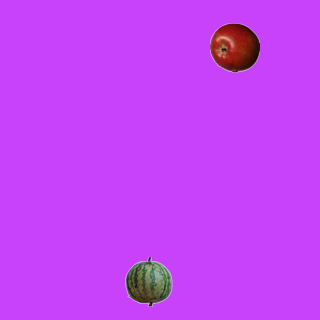Apple Braeburn: (209, 22, 259, 72)
Watermelon: (123, 256, 173, 306)
